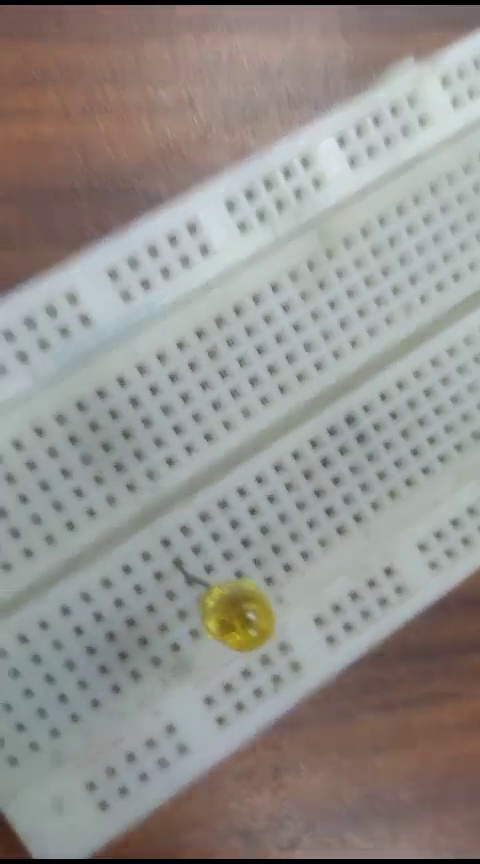LED: (172, 548, 280, 660)
